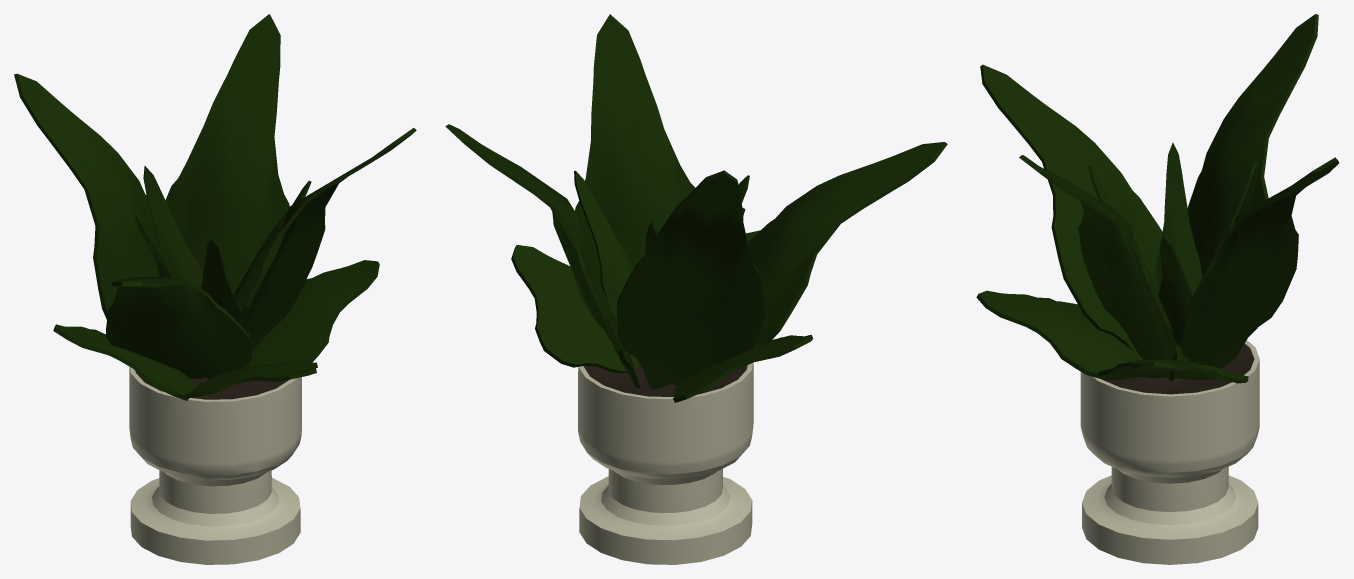
The model's file is Plant.fbx.
3 renders of one model, left to right at view 1: azimuth 30°, elevation 25°; view 2: azimuth 150°, elevation 25°; view 3: azimuth 270°, elevation 25°, orthographic. The views are drawn at different scales.
Visible parts, largest first — view 1: pasted__pPlane5; view 2: pasted__pPlane5; view 3: pasted__pPlane5.
Part boxes in pixels (x1=…): pasted__pPlane5: x1=14, y1=14, x2=416, y2=564; pasted__pPlane5: x1=445, y1=14, x2=947, y2=564; pasted__pPlane5: x1=976, y1=14, x2=1339, y2=564.
Bounding box in the file's own units: 5.19 × 6.34 × 4.63.
